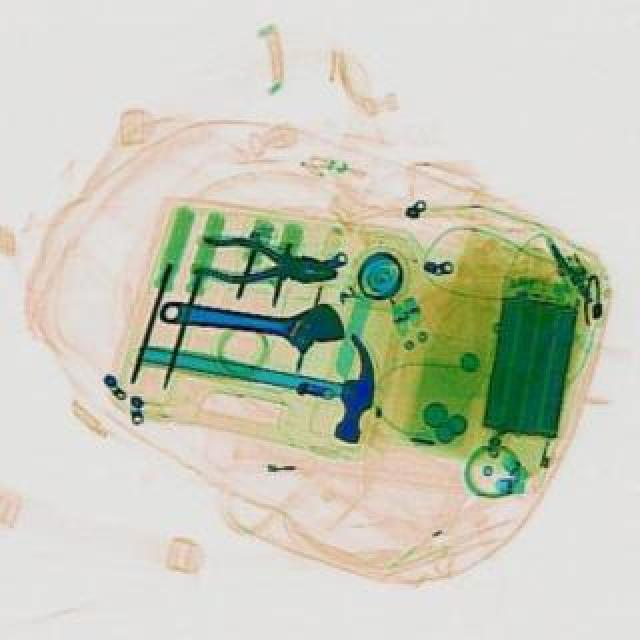scissors: (156, 280, 348, 356)
wrench: (188, 230, 338, 294)
